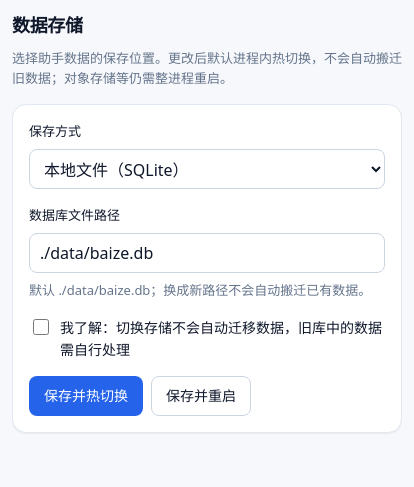
Test case: StorageSettings › blocks submit until the acknowledgement is checked
Click the button "保存并热切换" at [86, 396], box [29, 376, 143, 416]
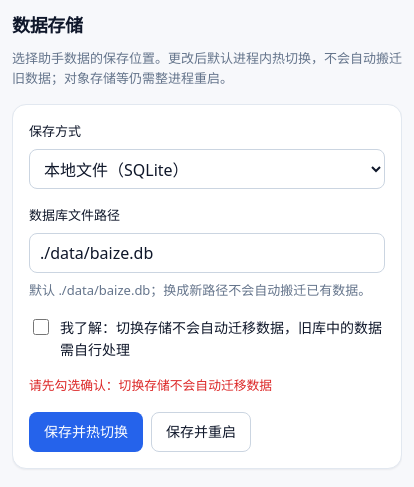
Now the text with test id "storage-ack-error" shows "请先勾选确认", box [29, 376, 272, 394]
